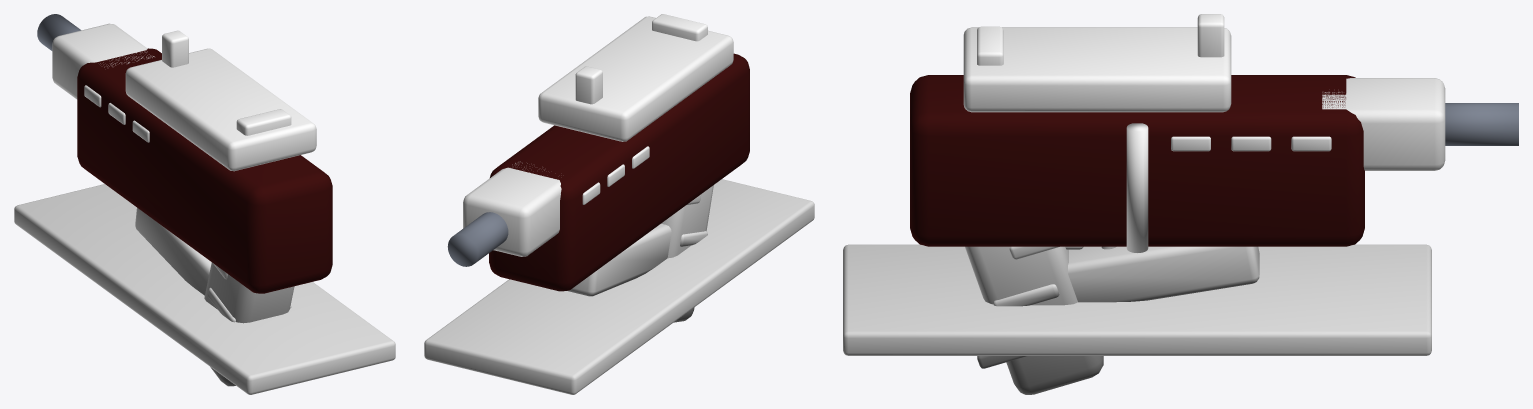
Rendered from nail-gun-pickup.obj.
3 renders of one model, left to right at view 1: azimuth 30°, elevation 25°; view 2: azimuth 150°, elevation 25°; view 3: azimuth 270°, elevation 25°, orthographic. The views are drawn at different scales.
Parts seen in each view (by area): view 1: nail-gun-world-pickup; view 2: nail-gun-world-pickup; view 3: nail-gun-world-pickup.
Boxes of the visible parts, bbox=[...] form: nail-gun-world-pickup: bbox=[14, 14, 395, 394]; nail-gun-world-pickup: bbox=[424, 14, 814, 394]; nail-gun-world-pickup: bbox=[843, 14, 1518, 394].
Size of the model in its own units: 0.16 by 0.301 by 0.505.
